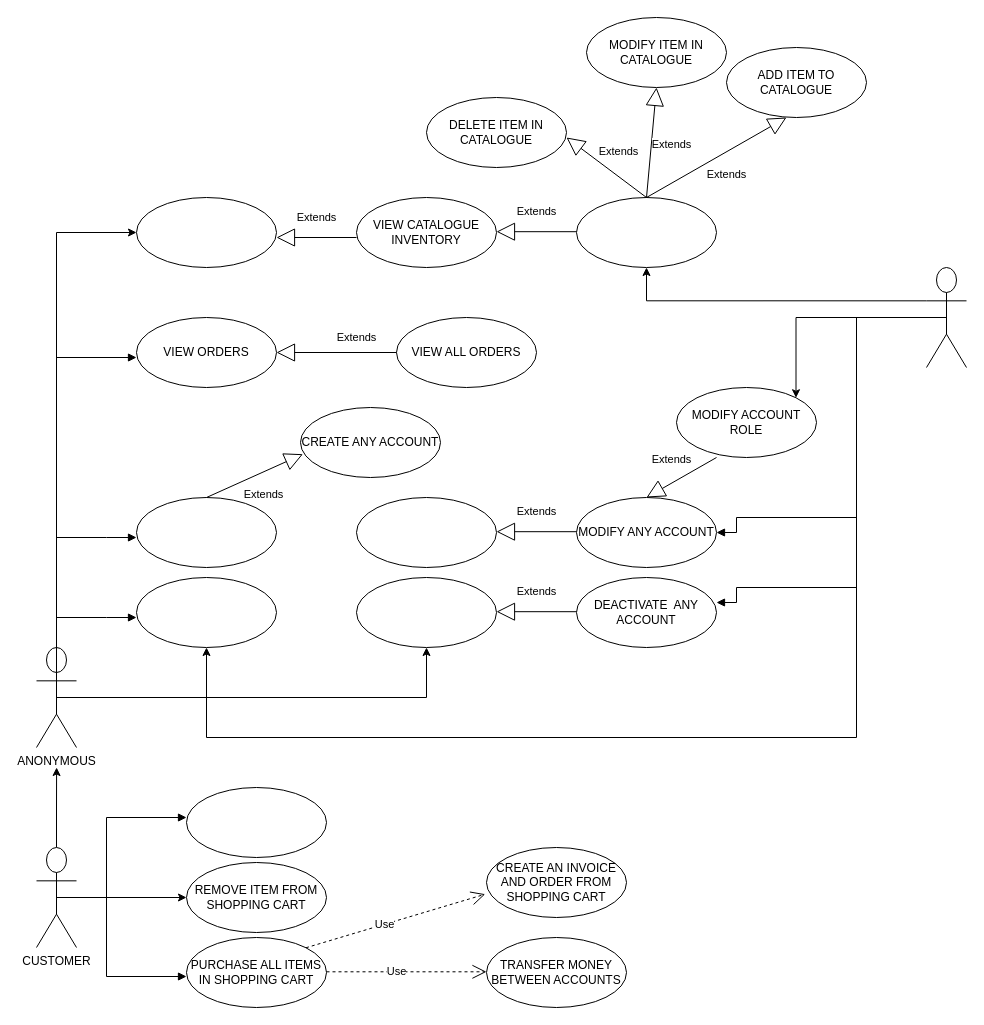
Some shapes in this 984 by 1025 pixel diagram are drawn without their labels. The centre of each missing label's shape, as x and y in pixels:
"ADD ITEM TO SHOPPING CART" belongs at pixel 256 822.
"ADMIN" belongs at pixel 946 317.
"CREATE AN ACCOUNT" belongs at pixel 206 532.
"DEACTIVATE ACCOUNT" belongs at pixel 426 612.
"LOGIN" belongs at pixel 206 612.
"MODIFY ACCOUNT" belongs at pixel 426 532.
"SEARCH CATALOGUE FOR ITEM" belongs at pixel 206 232.
"VIEW CATALOGUE" belongs at pixel 646 232.
